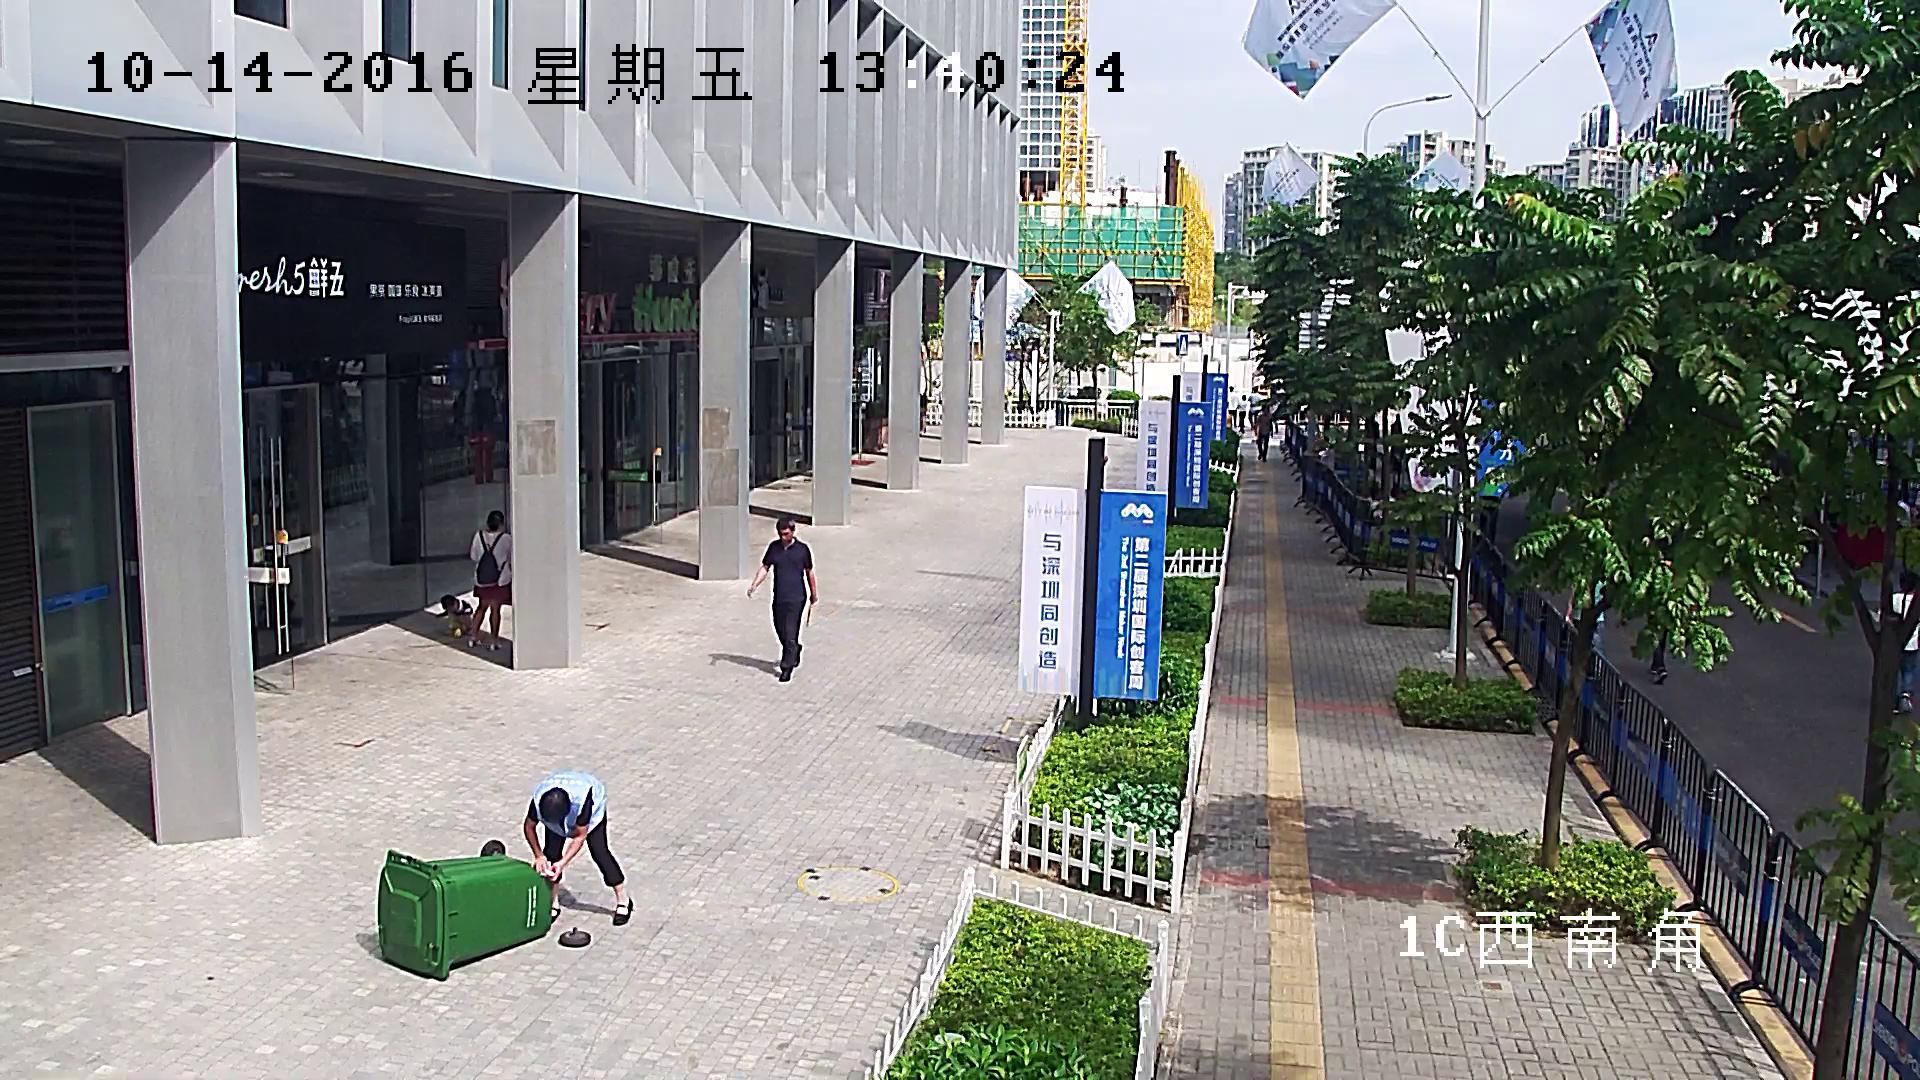person: (375, 769, 634, 982), (522, 769, 635, 926), (745, 516, 818, 683), (467, 509, 512, 652), (1877, 571, 1920, 715), (1564, 573, 1605, 666), (434, 593, 473, 637), (1477, 478, 1501, 546), (1254, 403, 1273, 463), (1247, 385, 1264, 431), (1226, 386, 1237, 428), (1237, 394, 1246, 435)
